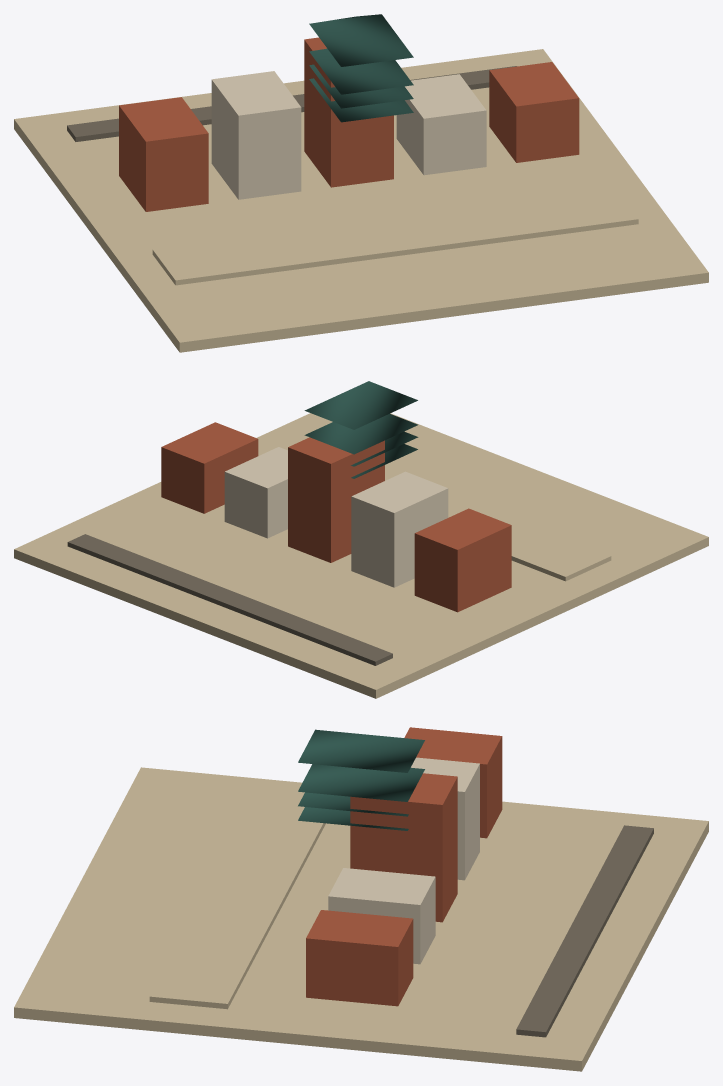
The model's file is model-medium.glb.
The picture shows the model from 3 angles, top to bottom: view 1: azimuth 30°, elevation 25°; view 2: azimuth 150°, elevation 25°; view 3: azimuth 270°, elevation 25°; orthographic projection. The views are drawn at different scales.
Parts seen in each view (by area): view 1: context_site_plinth, street_public_axis, street_facade_1, street_facade_0, street_facade_4, street_facade_3, street_facade_2, street_roof_2, street_roof_1, front_scale_strip, street_roof_0, street_roof_3; view 2: context_site_plinth, street_facade_2, street_facade_0, street_facade_1, front_scale_strip, street_facade_4, street_public_axis, street_facade_3, street_roof_2, street_roof_1; view 3: context_site_plinth, street_public_axis, street_facade_2, street_facade_4, front_scale_strip, street_facade_3, street_facade_0, street_roof_2, street_roof_1, street_facade_1, street_roof_0, street_roof_3.
Boxes of the visible parts, x1,y1,x2,y2 form: context_site_plinth: (14, 49, 708, 352); street_public_axis: (152, 188, 638, 285); street_facade_1: (211, 71, 301, 199); street_facade_0: (119, 97, 208, 211); street_facade_4: (489, 62, 579, 162); street_facade_3: (396, 74, 486, 175); street_facade_2: (304, 37, 393, 187); street_roof_2: (309, 14, 413, 66); street_roof_1: (309, 48, 413, 94); front_scale_strip: (67, 66, 516, 141); street_roof_0: (309, 64, 413, 108); street_roof_3: (309, 78, 413, 122); context_site_plinth: (14, 413, 708, 698); street_facade_2: (288, 437, 384, 562); street_facade_0: (414, 508, 511, 612); street_facade_1: (351, 471, 448, 587); front_scale_strip: (67, 534, 392, 665); street_facade_4: (161, 422, 258, 513); street_public_axis: (258, 433, 611, 581); street_facade_3: (224, 447, 287, 538); street_roof_2: (304, 381, 417, 429); street_roof_1: (304, 413, 417, 454); context_site_plinth: (14, 767, 708, 1071); street_public_axis: (149, 786, 325, 1009); street_facade_2: (350, 773, 457, 922); street_facade_4: (306, 910, 413, 1006); front_scale_strip: (516, 825, 653, 1037); street_facade_3: (328, 868, 435, 964); street_facade_0: (404, 727, 502, 838); street_roof_2: (298, 729, 424, 772); street_roof_1: (298, 764, 424, 801); street_facade_1: (411, 757, 479, 880); street_roof_0: (298, 792, 408, 816); street_roof_3: (298, 807, 408, 830).
Size of the model in its own units: 9.55 by 2.89 by 9.55.
